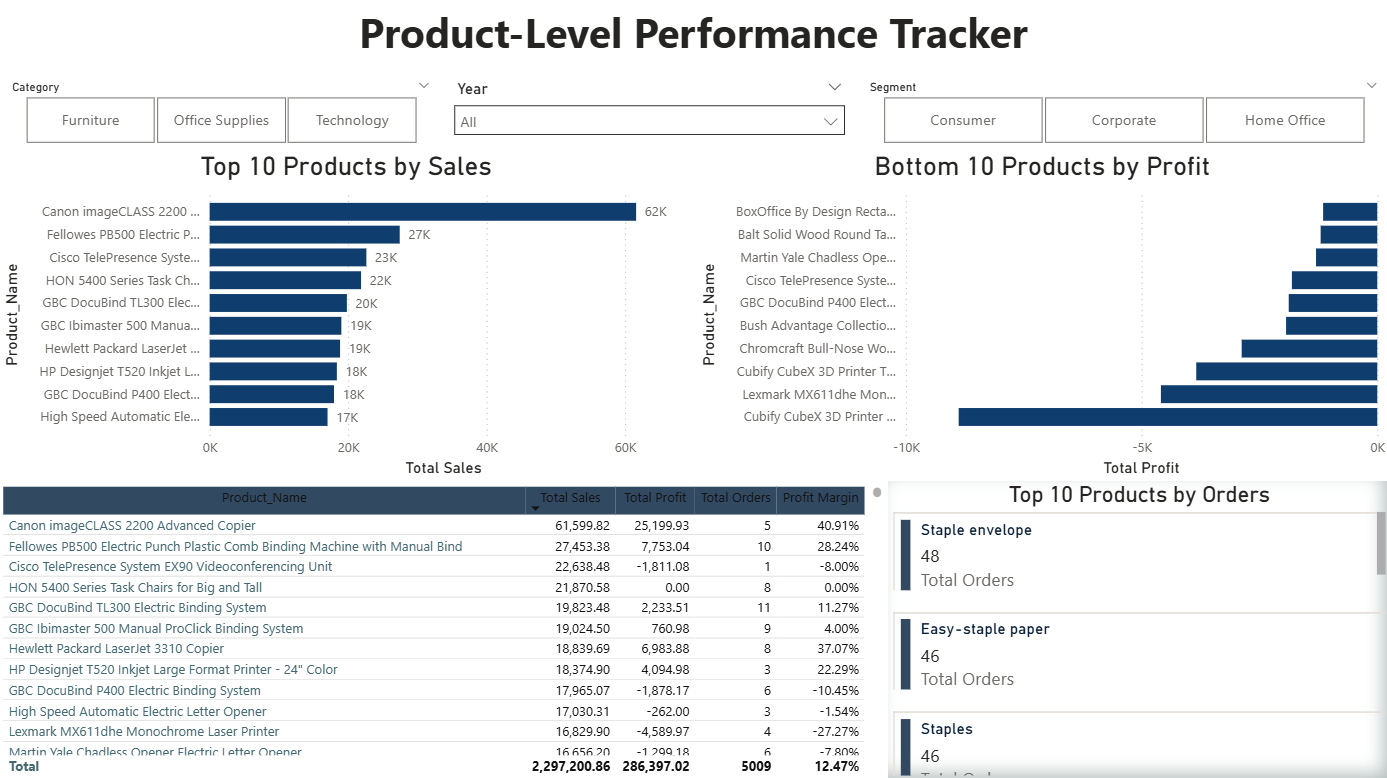

Layout of this report page (visuals, bound fields, positions):
{"tool":"powerbi","page":{"name":"Product Performance","canvas":[1280,720],"ordinal":3},"visuals":[{"type":"textbox","box":[281.8,0,715.6,68.8],"z":0},{"type":"clusteredBarChart","title":"Top 10 Products by Sales","fields":{"Category":["Cleaned_Superstore.Product_Name"],"Y":["Cleaned_Superstore.Total Sales"]},"box":[0,139,640.3,305.2],"z":1000},{"type":"clusteredBarChart","title":"Bottom 10 Products by Profit","fields":{"Category":["Cleaned_Superstore.Product_Name"],"Y":["Cleaned_Superstore.Total Profit"]},"box":[640.3,139,640.3,305.2],"z":2000},{"type":"pivotTable","fields":{"Rows":["Cleaned_Superstore.Product_Name"],"Values":["Cleaned_Superstore.Total Sales","Cleaned_Superstore.Total Profit","Cleaned_Superstore.Total Orders","Cleaned_Superstore.Profit Margin"]},"box":[0,444.2,818.2,275.3],"z":3000},{"type":"multiRowCard","title":"Top 10 Products by Orders","fields":{"Values":["Cleaned_Superstore.Product_Name","Cleaned_Superstore.Total Orders"]},"box":[818.2,444.2,462.3,275.3],"z":4000},{"type":"slicer","fields":{"Values":["DateTable.Year"]},"box":[409.1,68.8,379.2,70.1],"z":5000},{"type":"slicer","fields":{"Values":["Cleaned_Superstore.Category"]},"box":[0,68.8,409.1,70.1],"z":6000},{"type":"slicer","fields":{"Values":["Cleaned_Superstore.Segment"]},"box":[788.3,68.8,492.2,70.1],"z":7000}]}

Visuals, with their boxes in screenshot pixels (x1, y1, x2, y2), scaled from the page's 1280x720 canvas onto the 1387x778 screenshot:
textbox: Rect(305, 0, 1081, 74)
"Top 10 Products by Sales" clusteredBarChart: Rect(0, 150, 694, 480)
"Bottom 10 Products by Profit" clusteredBarChart: Rect(694, 150, 1386, 480)
pivotTable - Cleaned_Superstore.Product_Name x Cleaned_Superstore.Total Sales: Rect(0, 480, 887, 777)
"Top 10 Products by Orders" multiRowCard: Rect(887, 480, 1386, 777)
slicer - DateTable.Year: Rect(443, 74, 854, 150)
slicer - Cleaned_Superstore.Category: Rect(0, 74, 443, 150)
slicer - Cleaned_Superstore.Segment: Rect(854, 74, 1386, 150)
